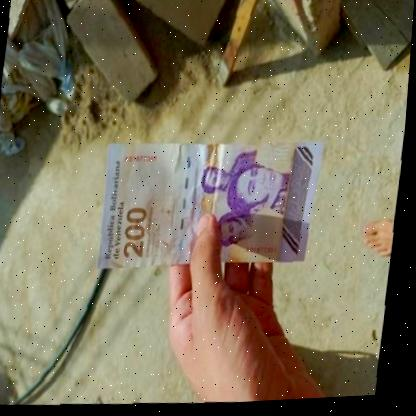two_hundred-front-vef: (97, 131, 329, 280)
